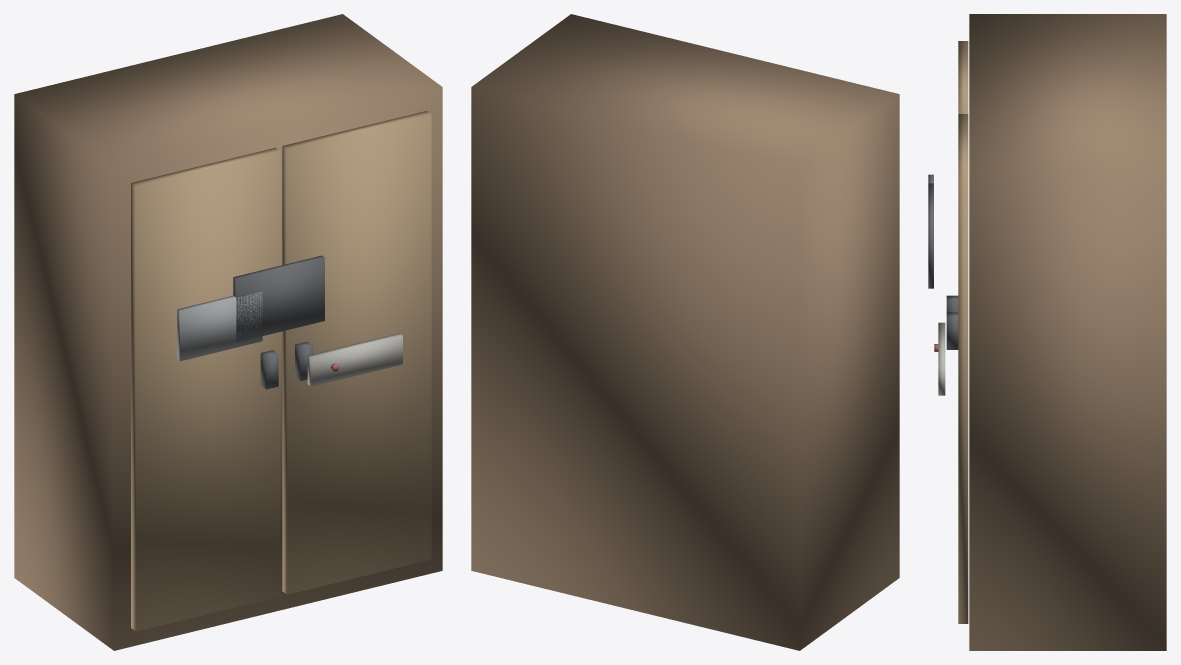
File: photo_chemical_cabinet__weathered.glb
3 renders of one model, left to right at view 1: azimuth 30°, elevation 25°; view 2: azimuth 150°, elevation 25°; view 3: azimuth 270°, elevation 25°, orthographic.
Visible parts, largest first — view 1: world; view 2: world; view 3: world.
Part boxes in pixels (left/top/right/bottom): world: left=14, top=14, right=442, bottom=650; world: left=471, top=14, right=899, bottom=650; world: left=928, top=14, right=1166, bottom=650.
Size of the model in its own units: 0.95 by 1.34 by 0.6041.
